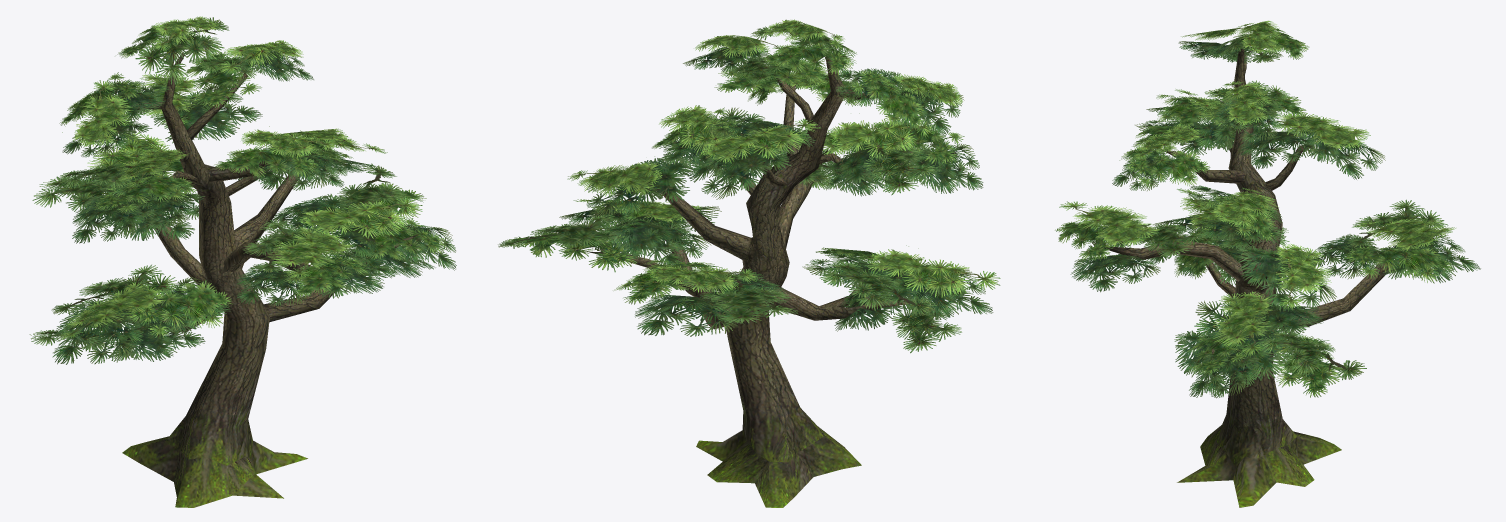
File: wlf_shu01_w.FBX
The picture shows the model from 3 angles, left to right: view 1: azimuth 30°, elevation 25°; view 2: azimuth 150°, elevation 25°; view 3: azimuth 270°, elevation 25°; orthographic projection. The views are drawn at different scales.
Visible parts, largest first — view 1: wlf_shu01_w; view 2: wlf_shu01_w; view 3: wlf_shu01_w.
Part boxes in pixels (x1,y1,x2,y2): wlf_shu01_w: (29,16,456,507); wlf_shu01_w: (498,19,1000,507); wlf_shu01_w: (1055,20,1480,507).
Bounding box in the file's own units: 78073 × 75248 × 72205.
